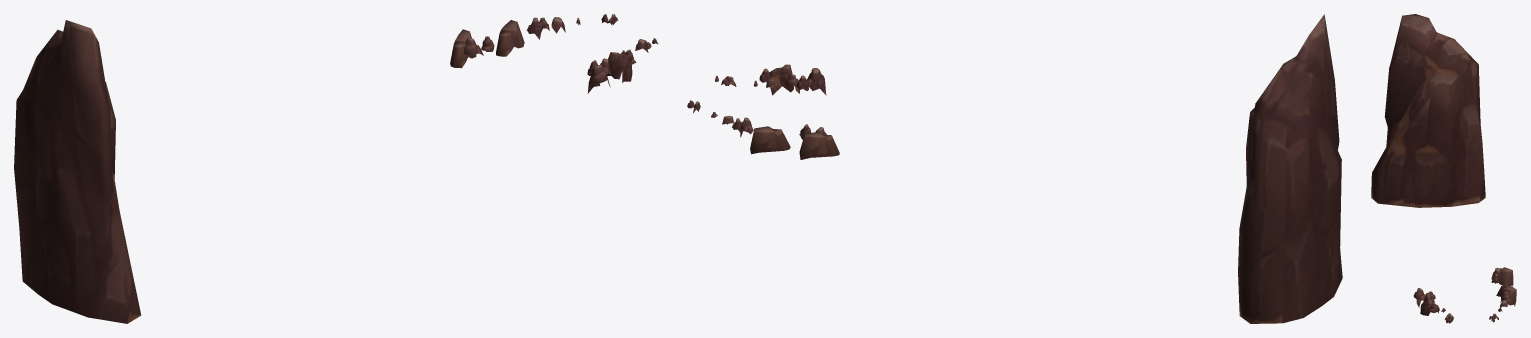
Rendered from boss1_wujian_1.fbx.
3 renders of one model, left to right at view 1: azimuth 30°, elevation 25°; view 2: azimuth 150°, elevation 25°; view 3: azimuth 270°, elevation 25°, orthographic. The views are drawn at different scales.
Visible parts, largest first — view 1: boss1_wujian_1; view 2: boss1_wujian_1; view 3: boss1_wujian_1.
Boxes of the visible parts, box(x1,y1,x2,y2) form: boss1_wujian_1: box(14, 14, 658, 323); boss1_wujian_1: box(687, 14, 1342, 323); boss1_wujian_1: box(1371, 14, 1516, 323).
Bounding box in the file's own units: 6657 × 2817 × 2084.
